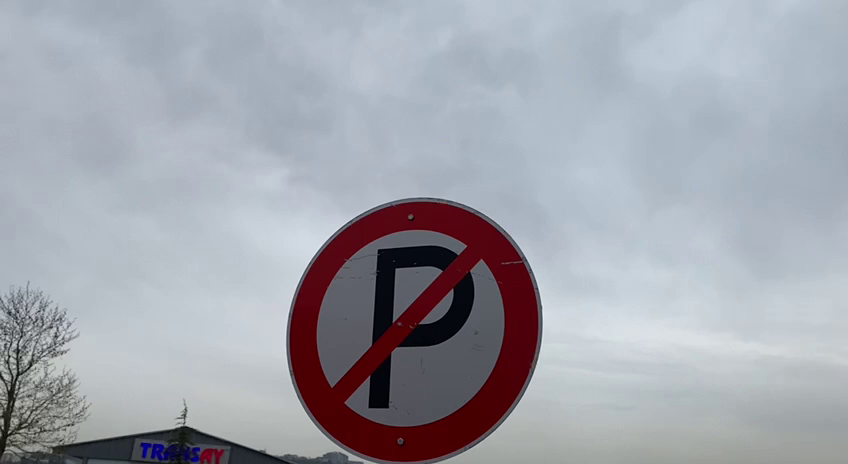noparking: (279, 195, 549, 464)
